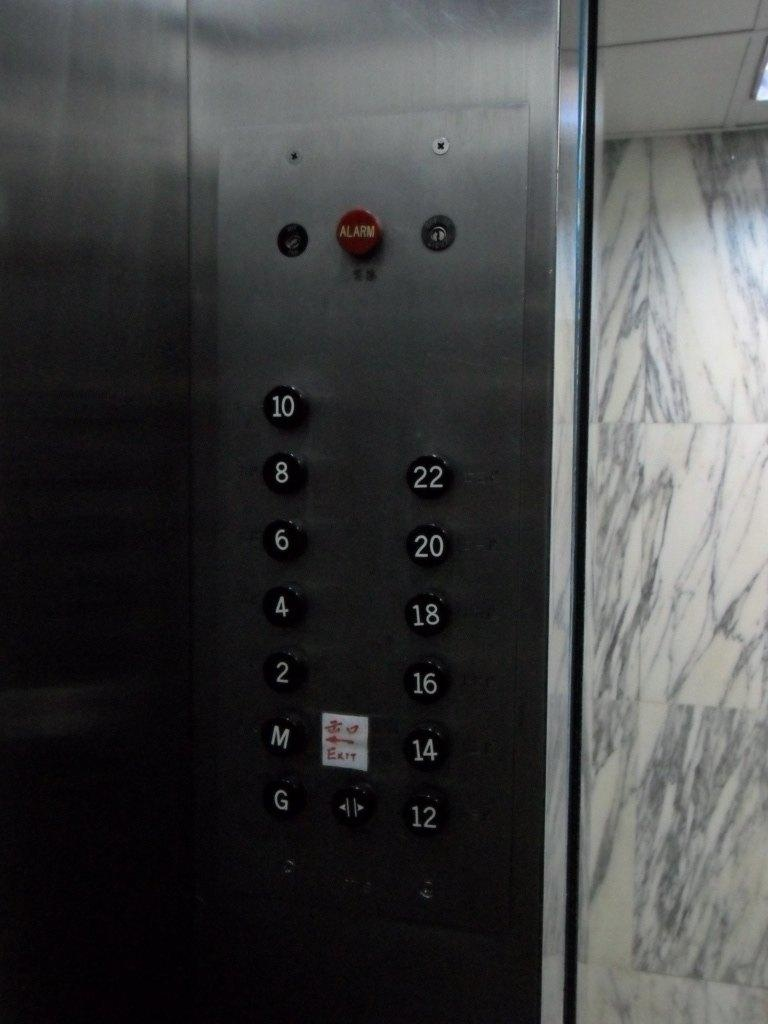10: (262, 383, 304, 430)
12: (400, 789, 446, 836)
14: (402, 724, 446, 773)
16: (402, 657, 450, 707)
18: (403, 589, 451, 637)
2: (260, 649, 303, 692)
20: (403, 520, 453, 569)
22: (404, 450, 454, 500)
4: (260, 585, 305, 630)
6: (261, 517, 305, 561)
8: (262, 450, 305, 494)
G: (262, 777, 301, 822)
M: (261, 713, 301, 754)
keyhole: (421, 213, 456, 252), (273, 222, 310, 258)
open: (327, 785, 374, 828)
text_ALARM: (333, 204, 385, 260)
